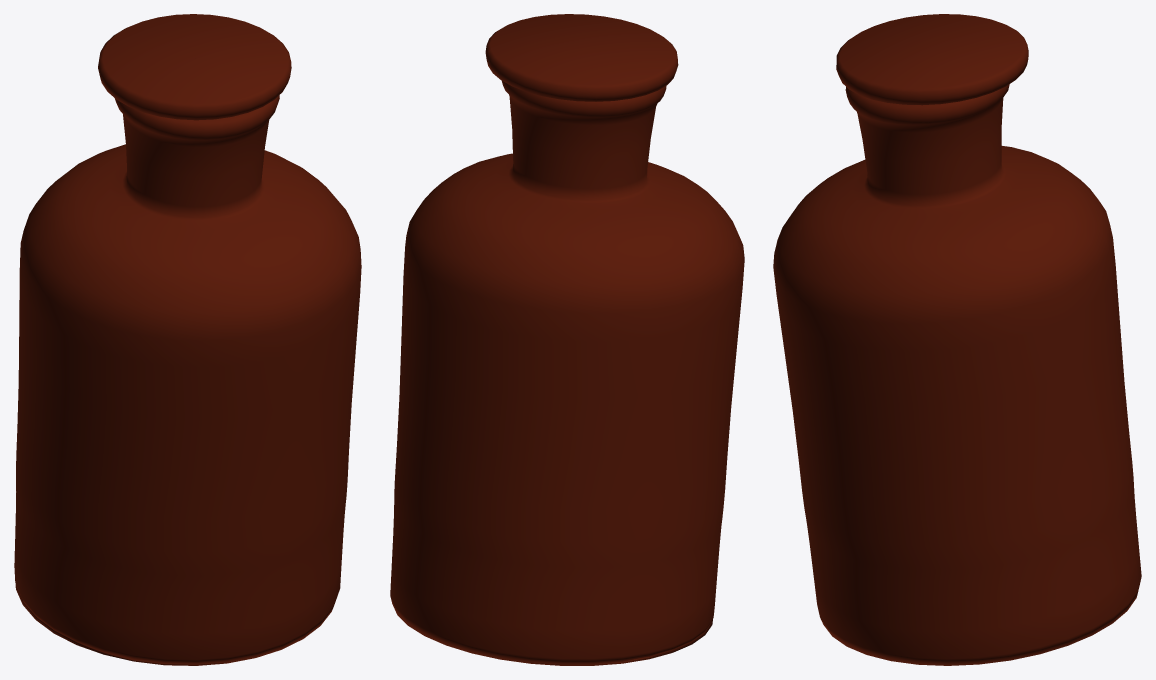
The model's file is 棕色试剂瓶 (1).fbx.
3 renders of one model, left to right at view 1: azimuth 30°, elevation 25°; view 2: azimuth 150°, elevation 25°; view 3: azimuth 270°, elevation 25°, orthographic.
Parts seen in each view (by area): view 1: Line001, Line002; view 2: Line001, Line002; view 3: Line001, Line002.
Part boxes in pixels (x1=…): Line001: x1=14, y1=95, x2=361, y2=665; Line002: x1=98, y1=14, x2=291, y2=120; Line001: x1=390, y1=81, x2=744, y2=665; Line002: x1=485, y1=14, x2=678, y2=161; Line001: x1=773, y1=84, x2=1141, y2=665; Line002: x1=836, y1=14, x2=1028, y2=105.
Bounding box in the file's own units: 233 × 426 × 252.
